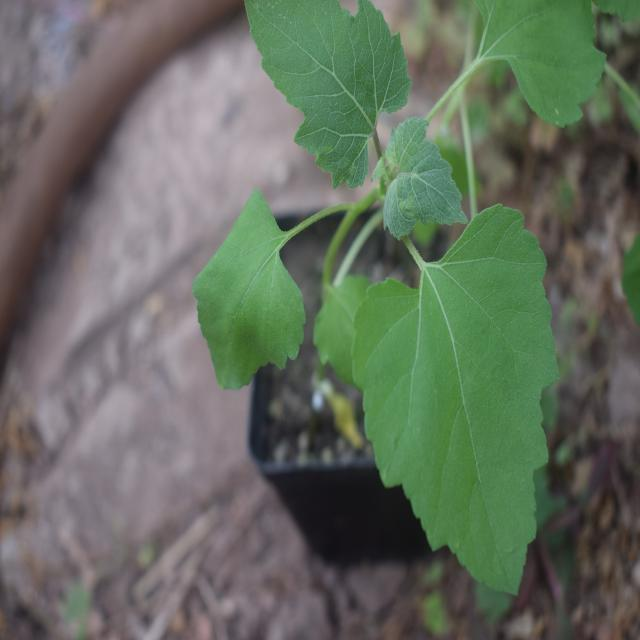cocklebur: (202, 0, 584, 571)
